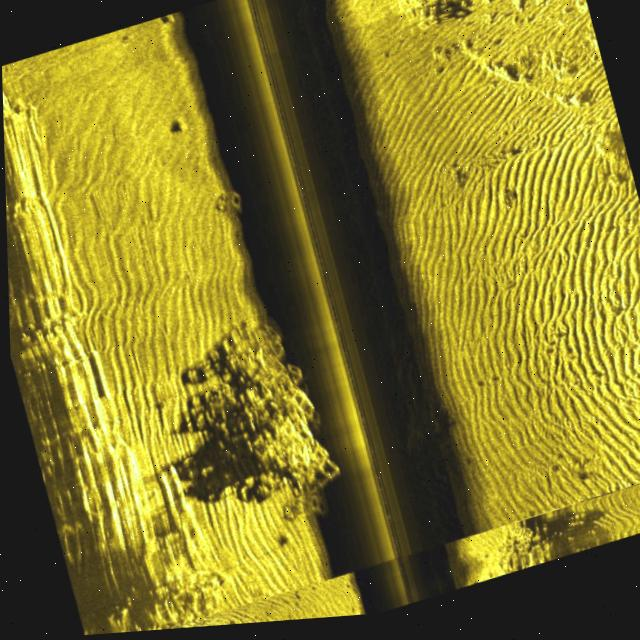artificial reef: (181, 312, 350, 551), (197, 164, 270, 265)
